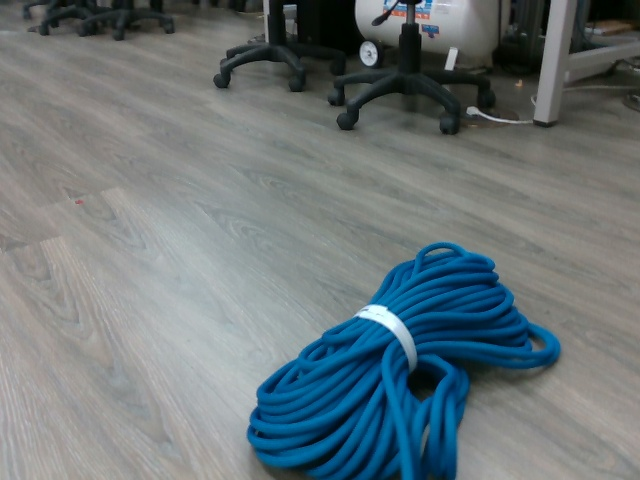rope: (243, 240, 566, 480)
